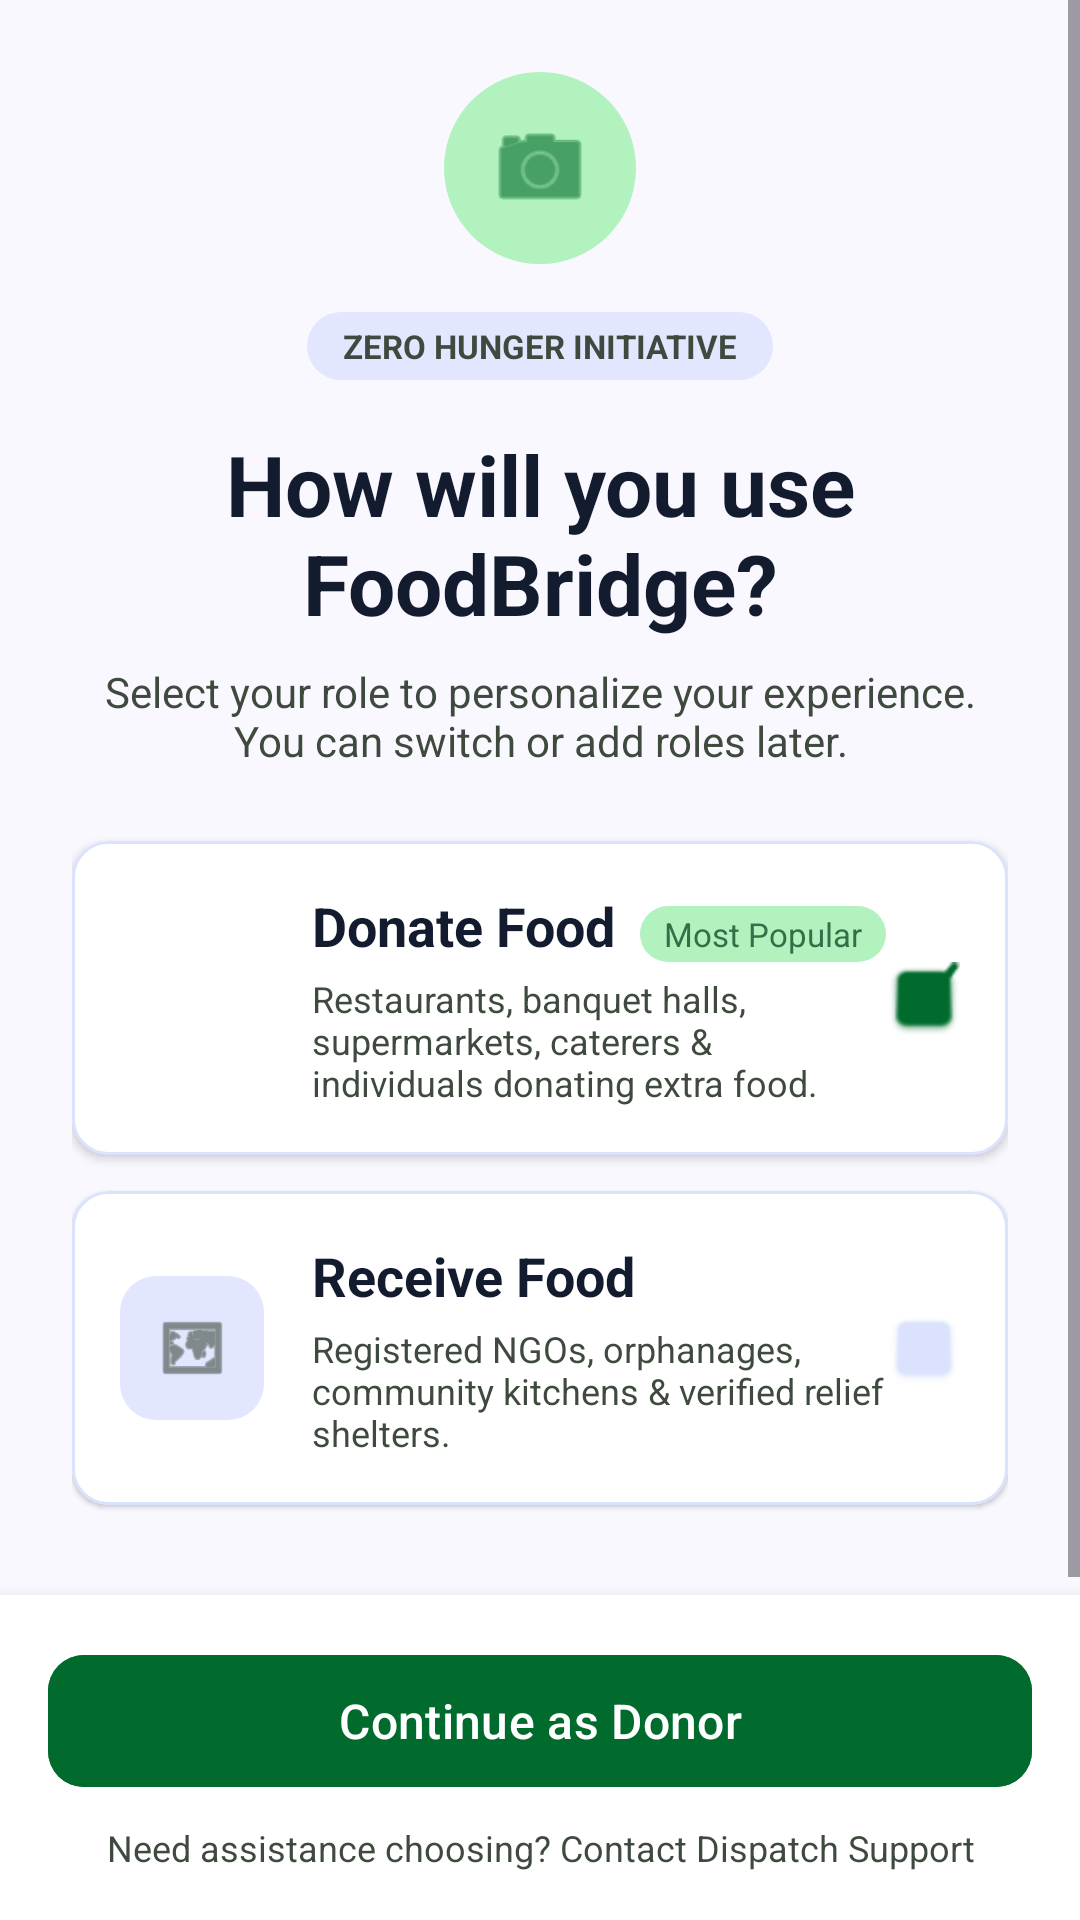

Named icons in this screenshot (1080 x 1920) and their bounding boxes, (x1, y1, x2, y2):
camera: (498, 133, 582, 199)
mapmode: (162, 1322, 222, 1374)
